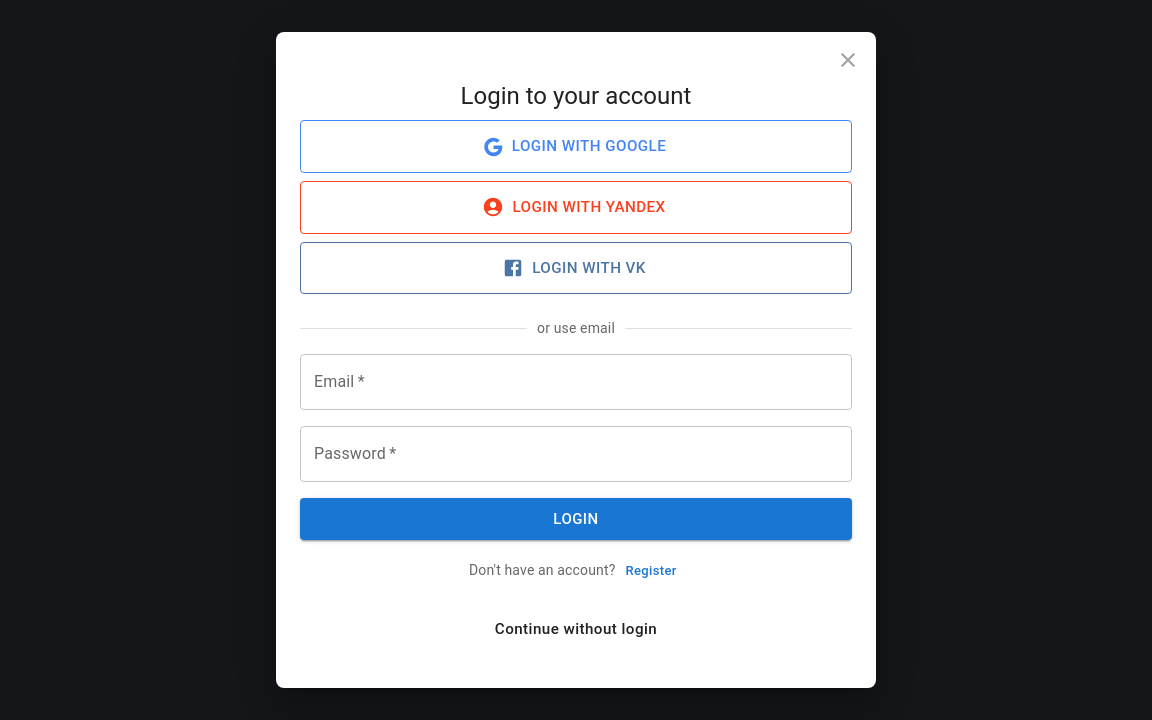
it: AuthModal › Login Mode › preserves email when switching to register mode
Type "test@example.com" into the field labelled "Email *". click: (576, 382)
box: x1=300 y1=354 x2=852 y2=410
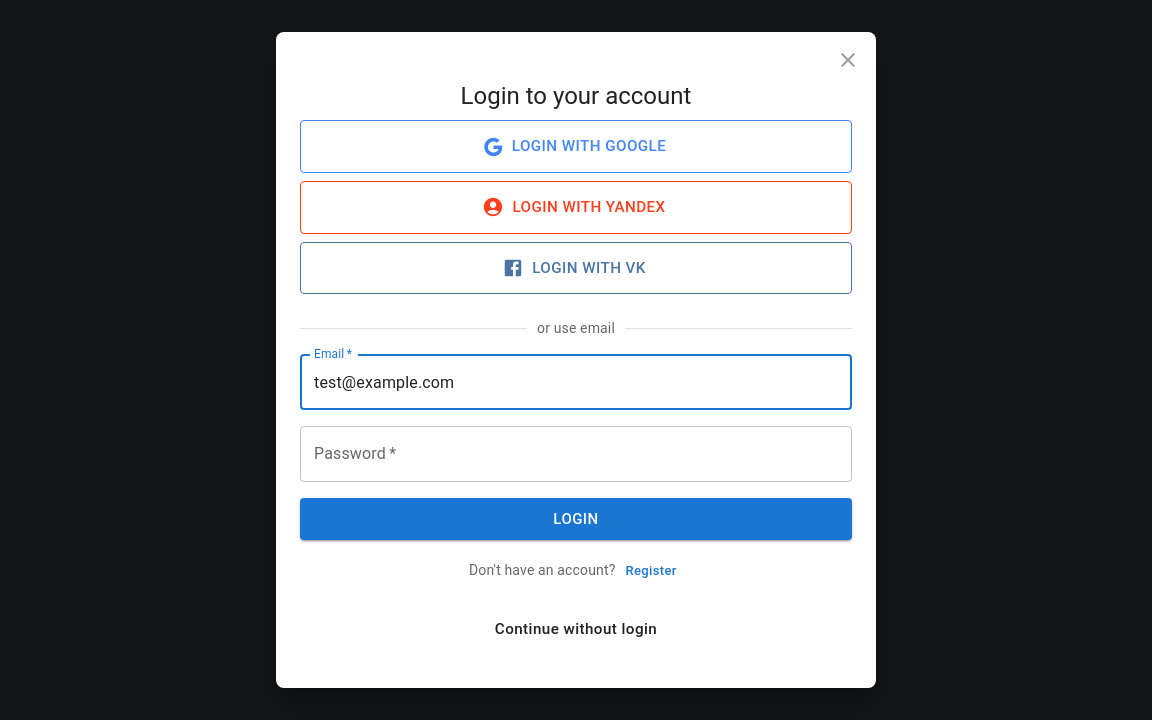
Click the button with aria-label "Switch to Register form". click: (651, 572)
box: x1=619 y1=556 x2=683 y2=587
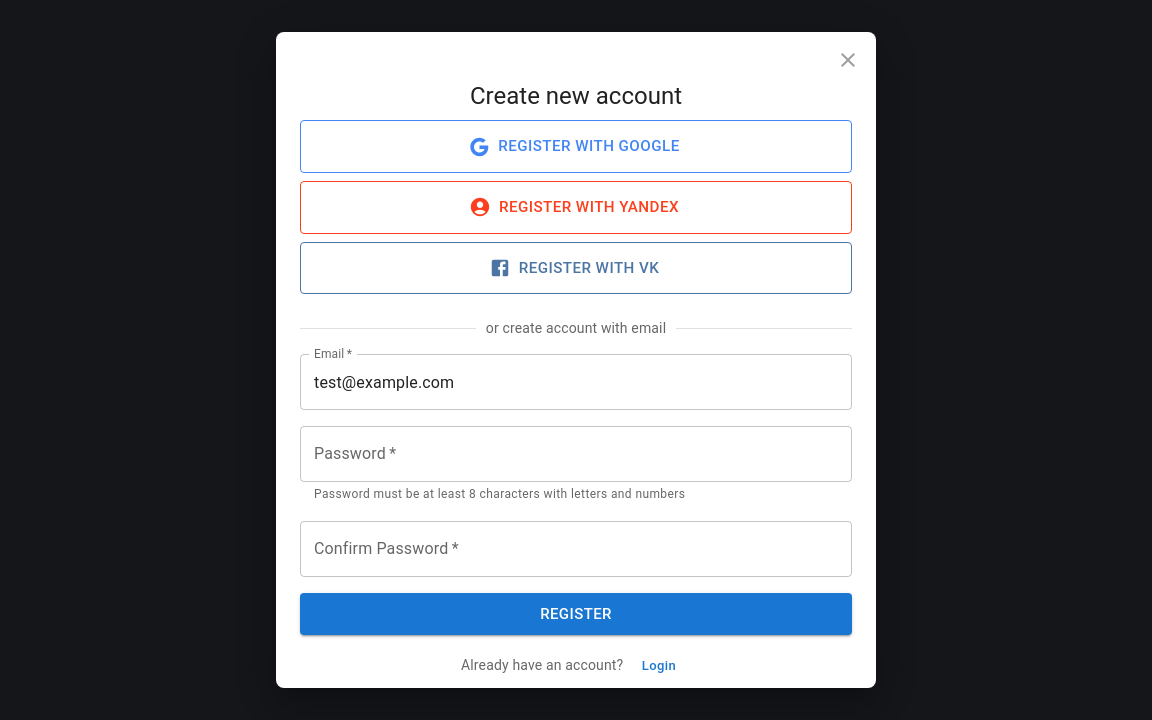
Expected: the field showing "test@example.com" is shown, x1=300 y1=354 x2=852 y2=410
